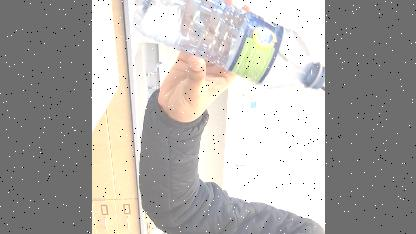Plastic Bottle: (128, 0, 322, 102)
